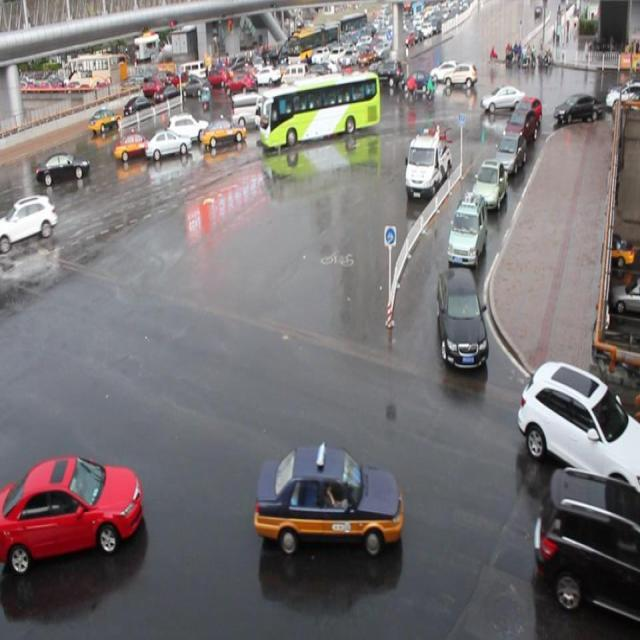BigCar: (257, 75, 380, 148)
car: (250, 446, 403, 582), (3, 458, 144, 583), (530, 484, 640, 629), (521, 355, 639, 484), (434, 266, 490, 379), (0, 196, 59, 252), (30, 149, 93, 191), (405, 134, 444, 200), (448, 197, 484, 256), (473, 155, 504, 215), (558, 89, 602, 130), (202, 115, 244, 156), (82, 106, 119, 143), (440, 67, 475, 102), (114, 138, 148, 174), (147, 130, 184, 163), (480, 88, 512, 116)
